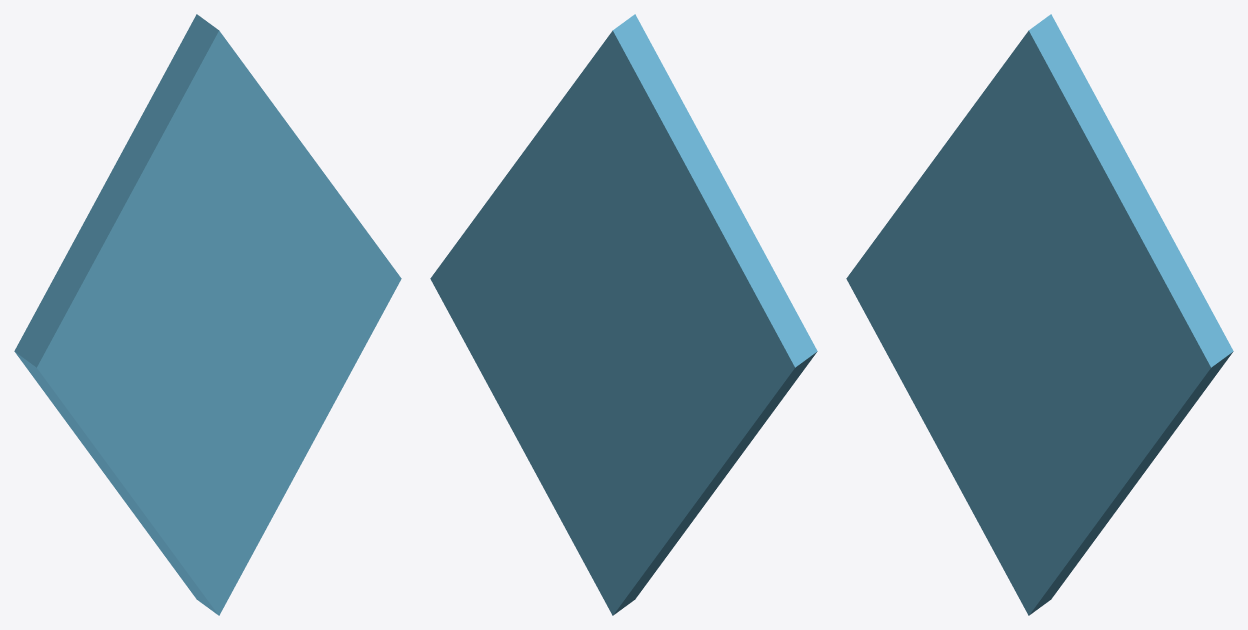
Rendered from badge_sulley.glb.
The picture shows the model from 3 angles, left to right: view 1: azimuth 30°, elevation 25°; view 2: azimuth 150°, elevation 25°; view 3: azimuth 330°, elevation 25°; orthographic projection.
Parts seen in each view (by area): view 1: badge; view 2: badge; view 3: badge.
Boxes of the visible parts, x1,y1,x2,y2 form: badge: [14, 14, 401, 615]; badge: [430, 14, 817, 615]; badge: [846, 14, 1233, 615].
Size of the model in its own units: 1.5 by 2.3 by 0.16.
